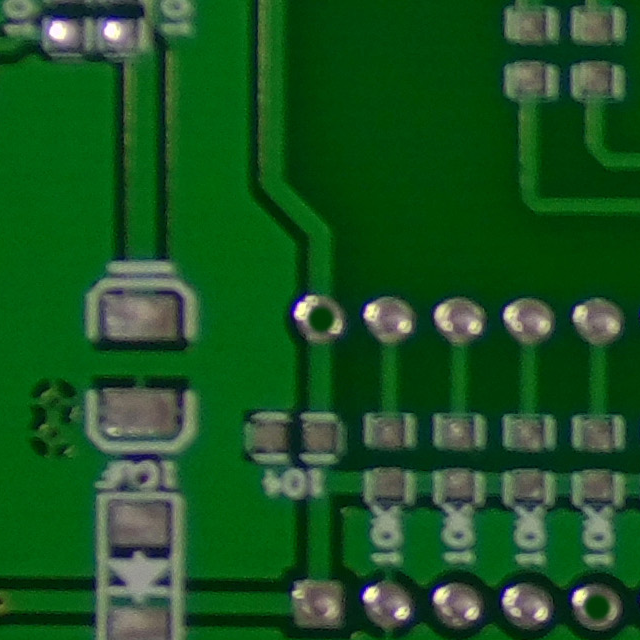missing_hole: (569, 572, 628, 640), (291, 290, 349, 350)
